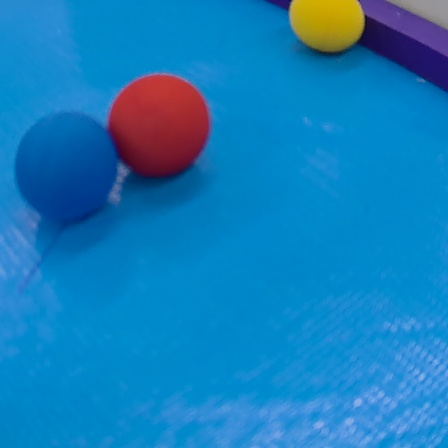blue: (18, 107, 122, 226)
blue_aim: (1, 3, 448, 448)
red: (99, 75, 215, 185)
yellow: (282, 0, 373, 55)
